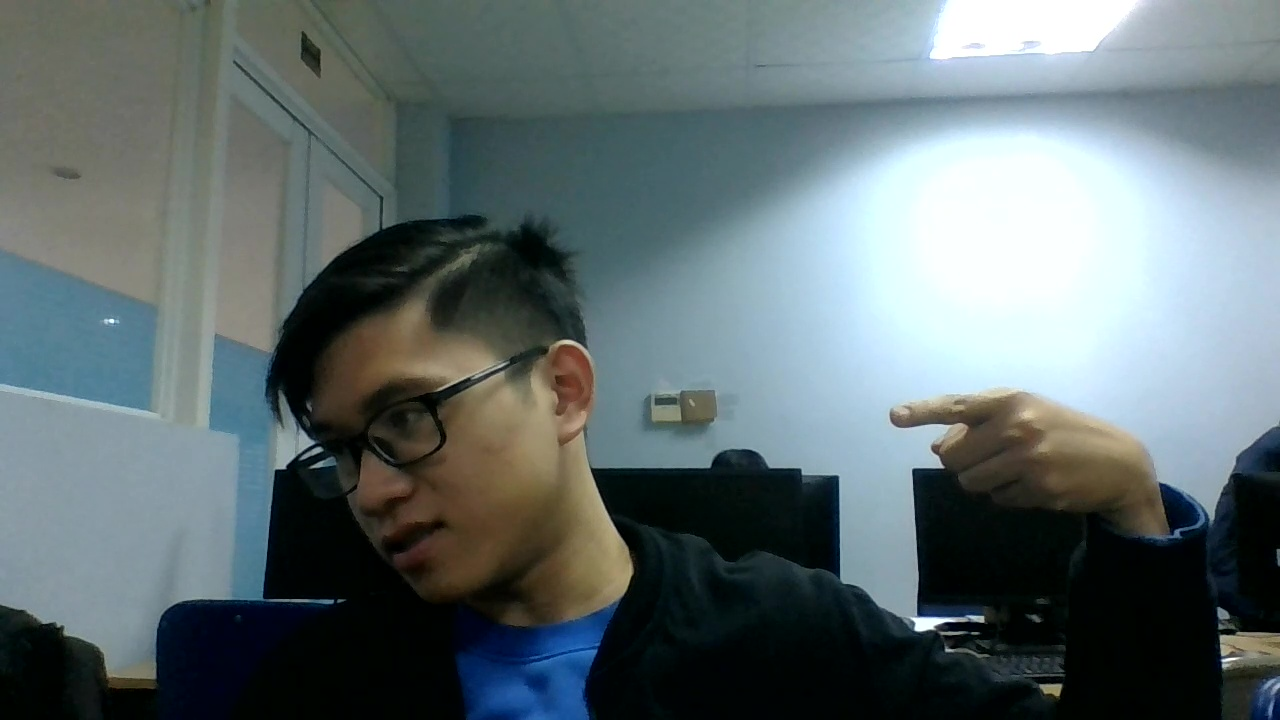right: (889, 374, 1161, 506)
